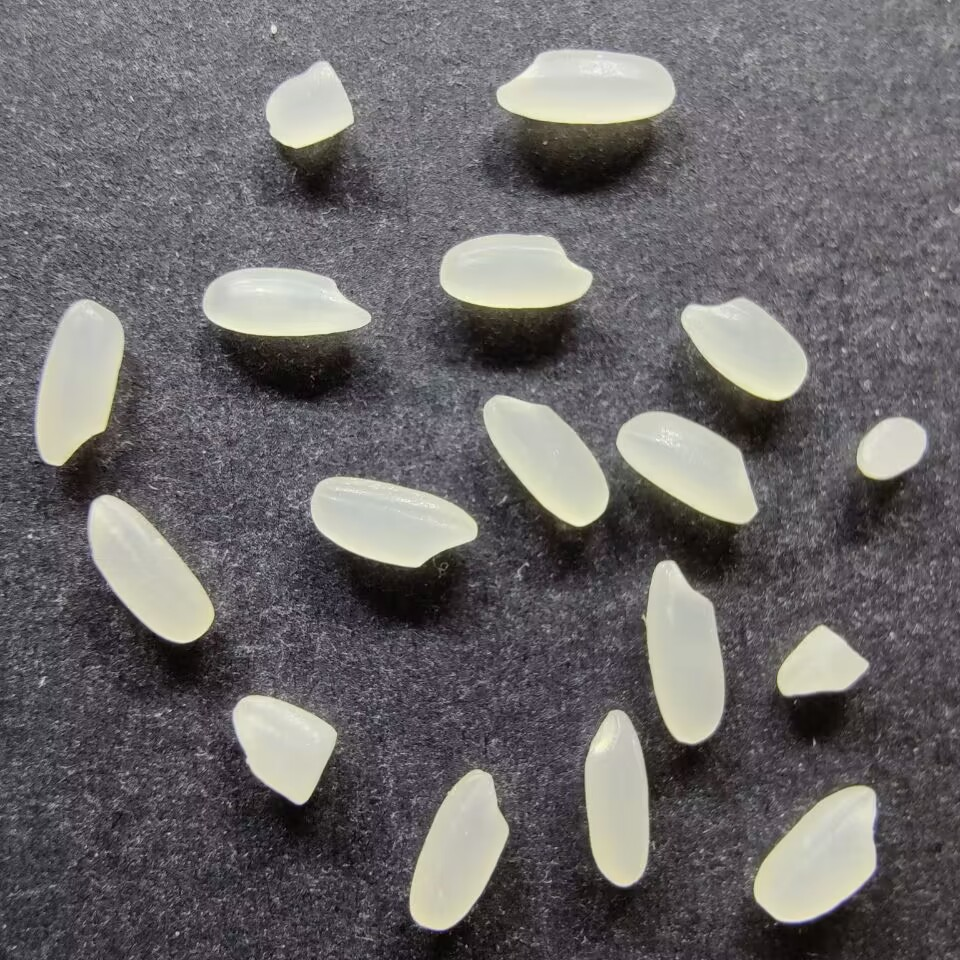broken: (229, 693, 339, 809), (263, 58, 354, 149), (775, 623, 871, 701), (855, 416, 933, 481)
rice: (85, 493, 216, 646), (750, 782, 879, 924), (480, 393, 609, 528), (406, 769, 510, 932), (613, 409, 759, 525), (307, 474, 479, 568), (643, 559, 727, 746), (33, 297, 125, 467), (494, 47, 677, 125), (678, 295, 807, 401), (581, 707, 651, 888), (200, 265, 373, 338), (437, 231, 594, 309)
